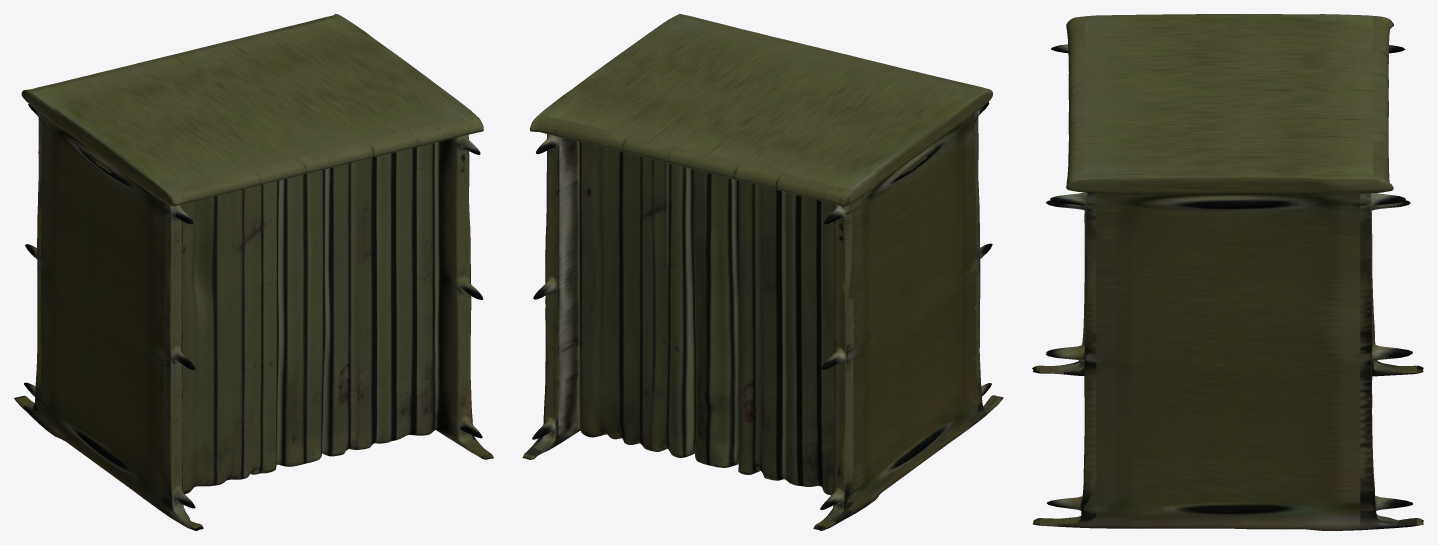
Rendered from wall-industrial-half.glb.
3 views of the same model, side by side, from view 1: azimuth 30°, elevation 25°; view 2: azimuth 150°, elevation 25°; view 3: azimuth 270°, elevation 25° (orthographic). The views are drawn at different scales.
Visible parts, largest first — view 1: tmp5w2crnr7.ply; view 2: tmp5w2crnr7.ply; view 3: tmp5w2crnr7.ply.
Boxes of the visible parts, x1,y1,x2,y2 form: tmp5w2crnr7.ply: [14, 14, 493, 530]; tmp5w2crnr7.ply: [522, 14, 1003, 530]; tmp5w2crnr7.ply: [1032, 14, 1423, 530].
Bounding box in the file's own units: 1 × 1 × 1.
1 material, 1 textured.
